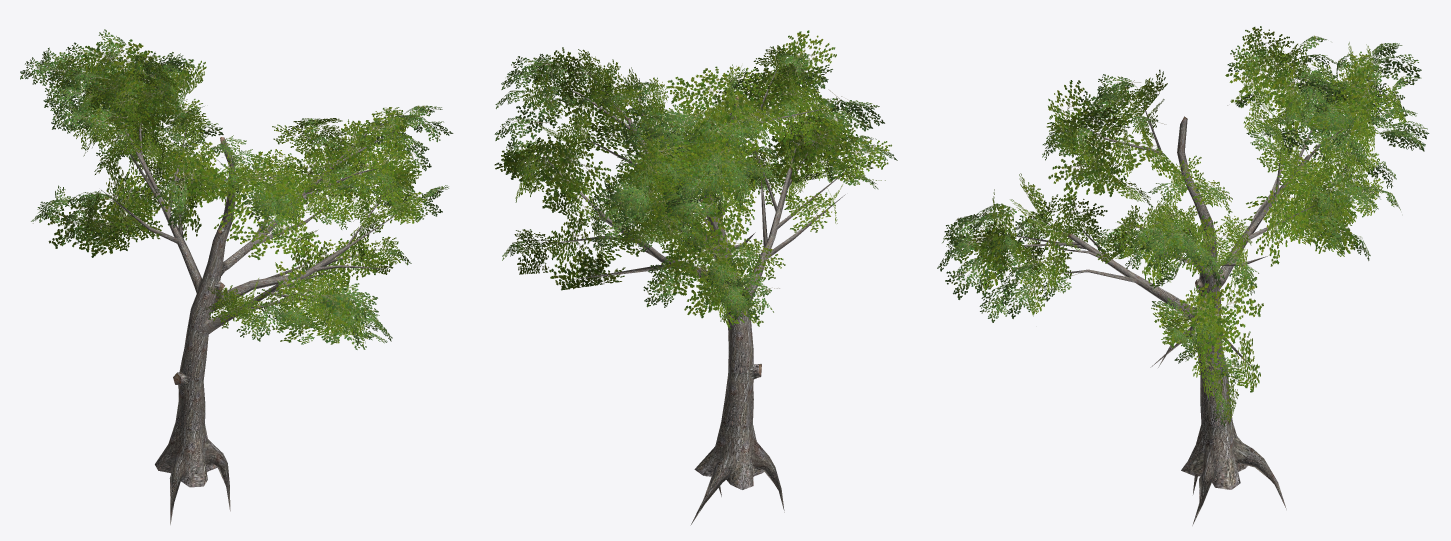
File: treeOld.fbx
The picture shows the model from 3 angles, left to right: view 1: azimuth 30°, elevation 25°; view 2: azimuth 150°, elevation 25°; view 3: azimuth 270°, elevation 25°; orthographic projection. The views are drawn at different scales.
Visible parts, largest first — view 1: tree; view 2: tree; view 3: tree.
Boxes of the visible parts, x1,y1,x2,y2 form: tree: (20,29,453,524); tree: (494,30,897,525); tree: (937,26,1429,525).
Bounding box in the file's own units: 1123 × 1409 × 1347.
